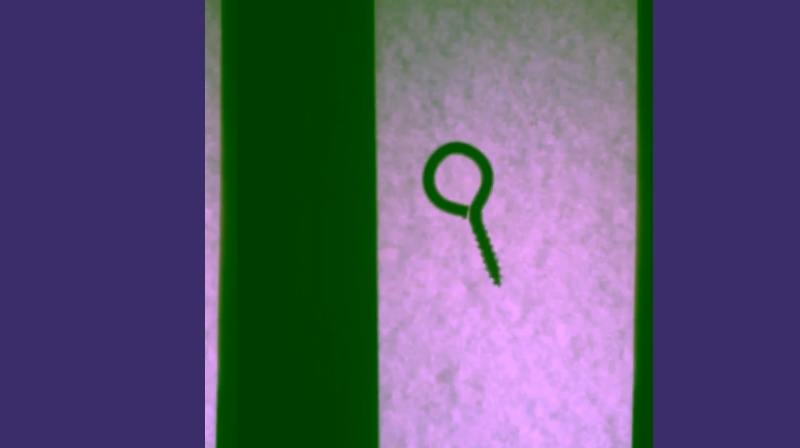O001: (418, 135, 507, 289)
